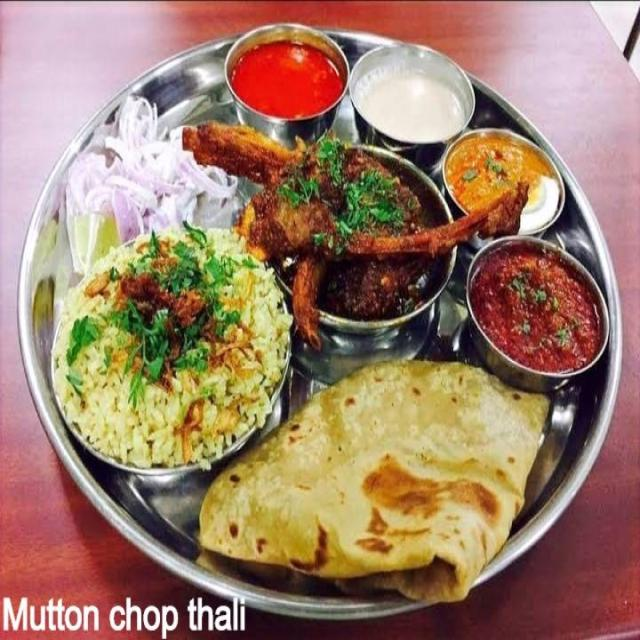non veg meals: (31, 18, 618, 622)
